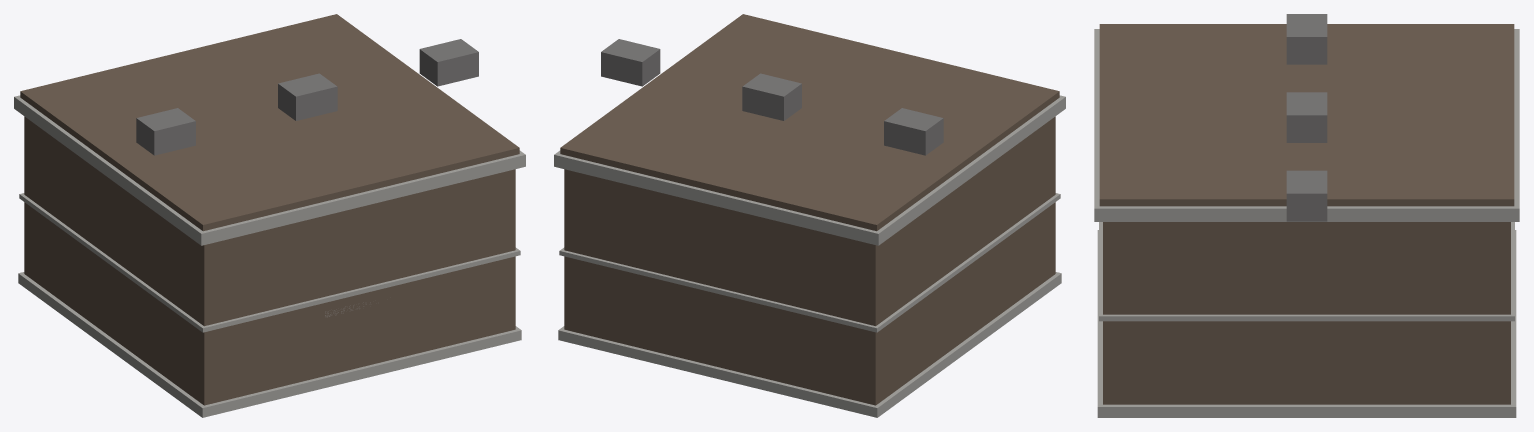
File: b_brick2.glb
3 views of the same model, side by side, from view 1: azimuth 30°, elevation 25°; view 2: azimuth 150°, elevation 25°; view 3: azimuth 270°, elevation 25° (orthographic). The views are drawn at different scales.
Visible parts, largest first — view 1: Building; view 2: Building; view 3: Building.
Boxes of the visible parts, x1=… form: Building: x1=14, y1=14, x2=525, y2=417; Building: x1=554, y1=14, x2=1065, y2=417; Building: x1=1094, y1=14, x2=1519, y2=417.
Bounding box in the file's own units: 13.96 × 8 × 12.5.
Materials: 5 (2 with a texture image).
